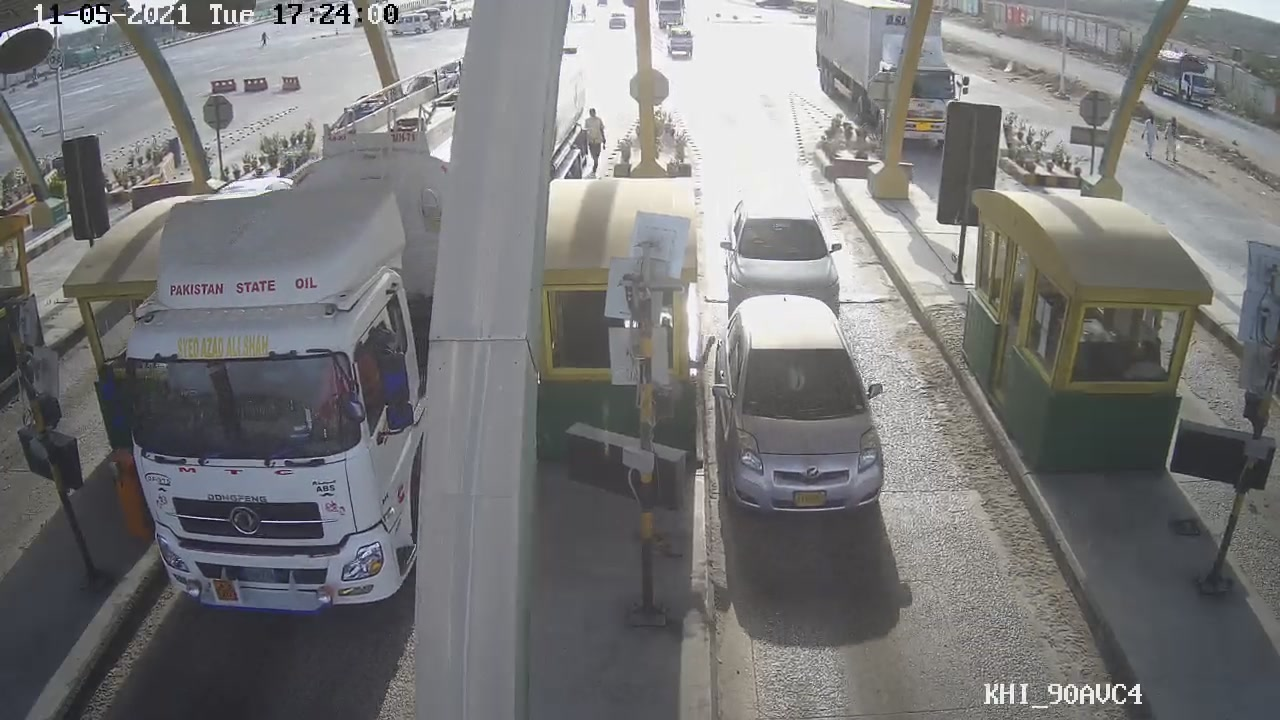F1: (700, 288, 900, 523)
